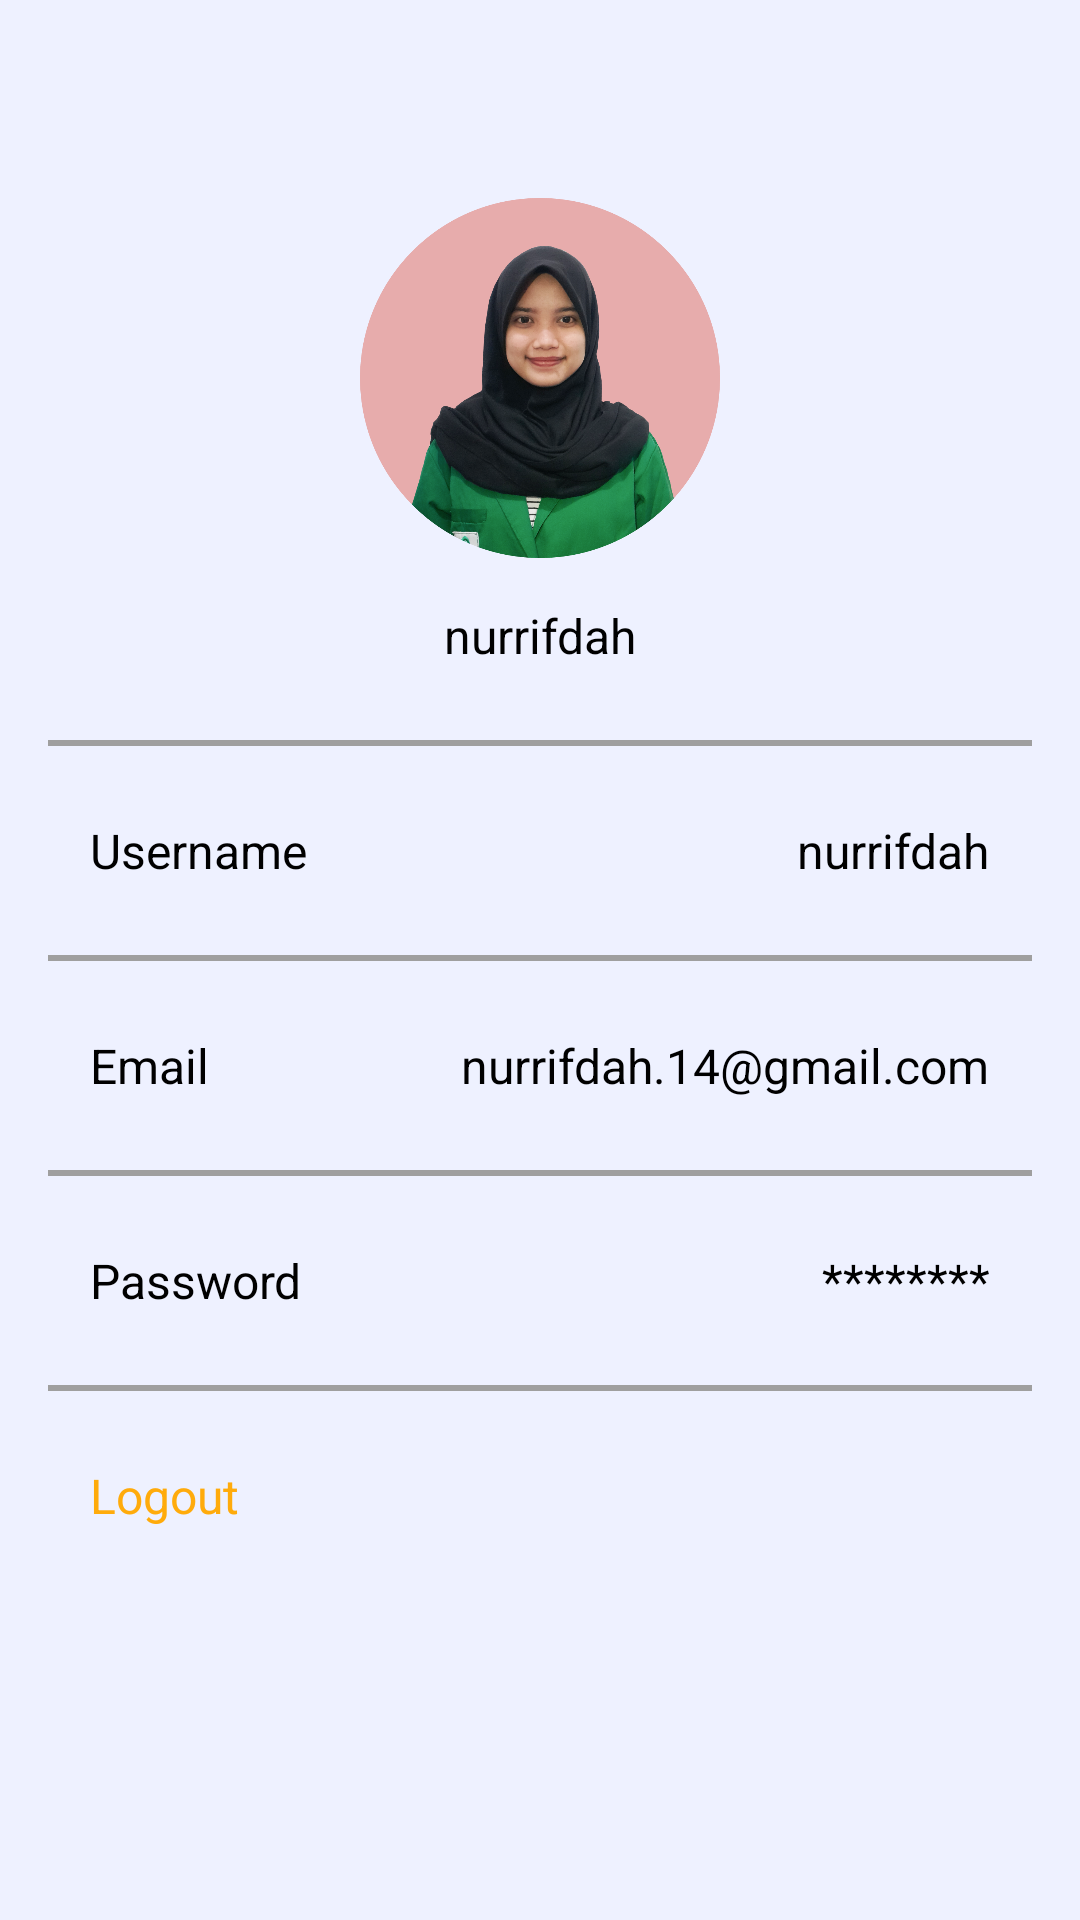

Screen size 1080*1920. Icon name, then its center in pixels as point (x, y):
profil: point (540, 378)
